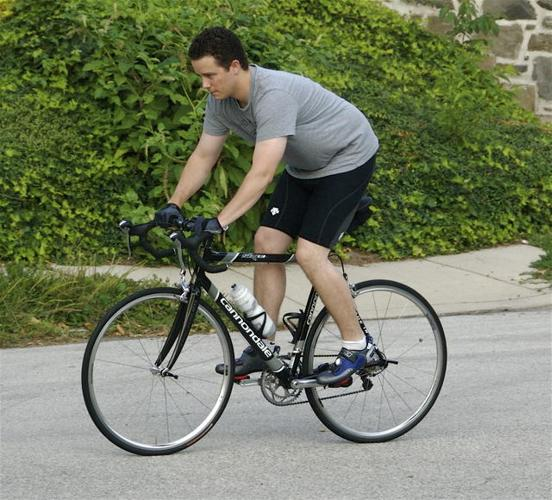person: (155, 28, 381, 389)
